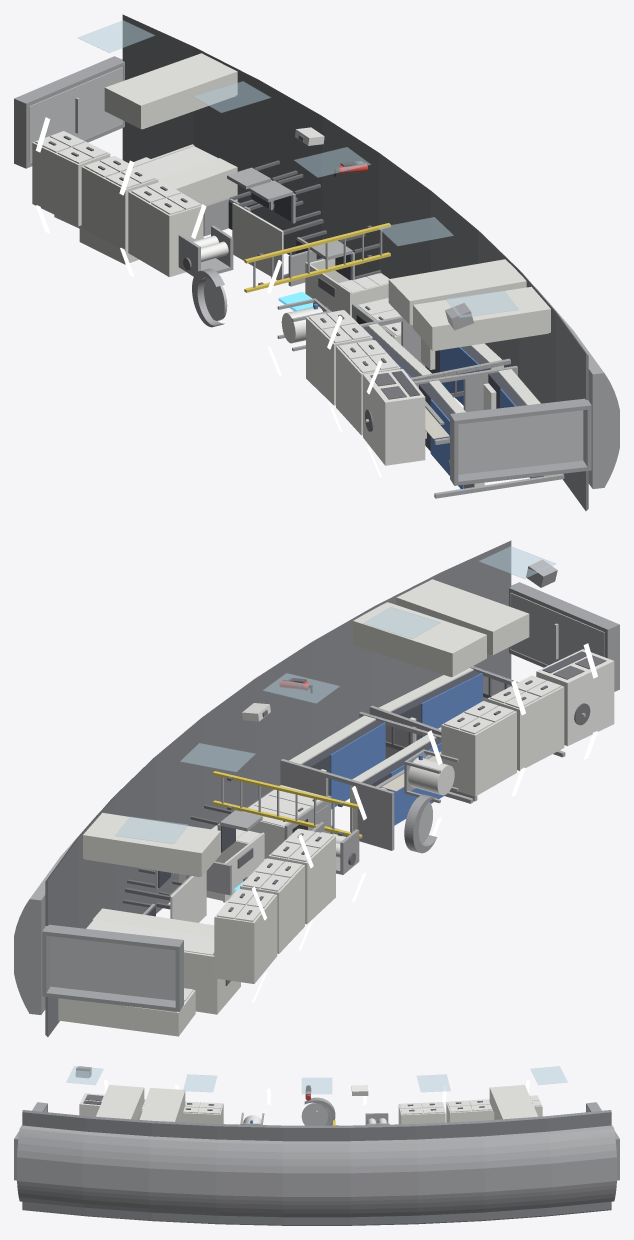
The model's file is station11_ring_segment_cutaway.glb.
3 renders of one model, top to bottom at view 1: azimuth 30°, elevation 25°; view 2: azimuth 150°, elevation 25°; view 3: azimuth 270°, elevation 25°, orthographic. The views are drawn at different scales.
Visible parts, largest first — view 1: deck_floor, hatch_door_1, window_glass_inner, eq39_3_body, eq39_1_body, eq07_1_body, eq39_2_body, hatch_tunnel_1, hatch_door_2, eq32_3_body, subfloor_ballast_tanks, eq32_5_body (+30 smaller); view 2: deck_floor, hatch_door_2, window_glass_inner, eq39_3_body, eq39_2_body, eq39_1_body, eq32_2_body, hatch_tunnel_2, eq32_5_body, eq40_1_walls, eq07_1_body, hatch_door_1 (+33 smaller); view 3: subfloor_ballast_tanks, deck_floor, window_glass_inner, eq39_1_body, eq39_3_body, eq39_2_body, hatch_door_3, eq32_4_body, eq32_3_body, eq32_2_body, eq32_3_drawers, eq32_4_drawers (+6 smaller).
Boxes of the visible parts, x1,y1,x2,y2 form: deck_floor: (122, 14, 588, 510); hatch_door_1: (458, 410, 583, 474); window_glass_inner: (78, 20, 518, 317); eq39_3_body: (104, 53, 237, 129); eq39_1_body: (413, 286, 550, 350); eq07_1_body: (363, 369, 425, 465); eq39_2_body: (388, 259, 526, 324); hatch_tunnel_1: (450, 398, 591, 485); hatch_door_2: (29, 67, 123, 162); eq32_3_body: (128, 182, 203, 277); subfloor_ballast_tanks: (533, 285, 619, 488); eq32_5_body: (32, 133, 110, 226); deck_floor: (45, 540, 511, 1036); hatch_door_2: (50, 936, 175, 1000); window_glass_inner: (115, 546, 555, 843); eq39_3_body: (83, 812, 220, 876); eq39_2_body: (353, 602, 486, 676); eq39_1_body: (396, 579, 529, 655); eq32_2_body: (441, 701, 516, 796); hatch_tunnel_2: (42, 924, 183, 1011); eq32_5_body: (214, 889, 277, 983); eq40_1_walls: (92, 908, 240, 1014); eq07_1_body: (536, 649, 614, 746); hatch_door_1: (510, 593, 604, 665); subfloor_ballast_tanks: (17, 1125, 616, 1217); deck_floor: (22, 1110, 611, 1225); window_glass_inner: (66, 1066, 567, 1094); eq39_1_body: (96, 1085, 144, 1119); eq39_3_body: (489, 1085, 537, 1119); eq39_2_body: (139, 1088, 185, 1121); hatch_door_3: (301, 1103, 331, 1125); eq32_4_body: (446, 1100, 494, 1122); eq32_3_body: (398, 1102, 445, 1124); eq32_2_body: (180, 1102, 223, 1123); eq32_3_drawers: (399, 1102, 444, 1114); eq32_4_drawers: (447, 1099, 492, 1112).
Bounding box in the file's own units: 3.83 × 2.95 × 13.57.
